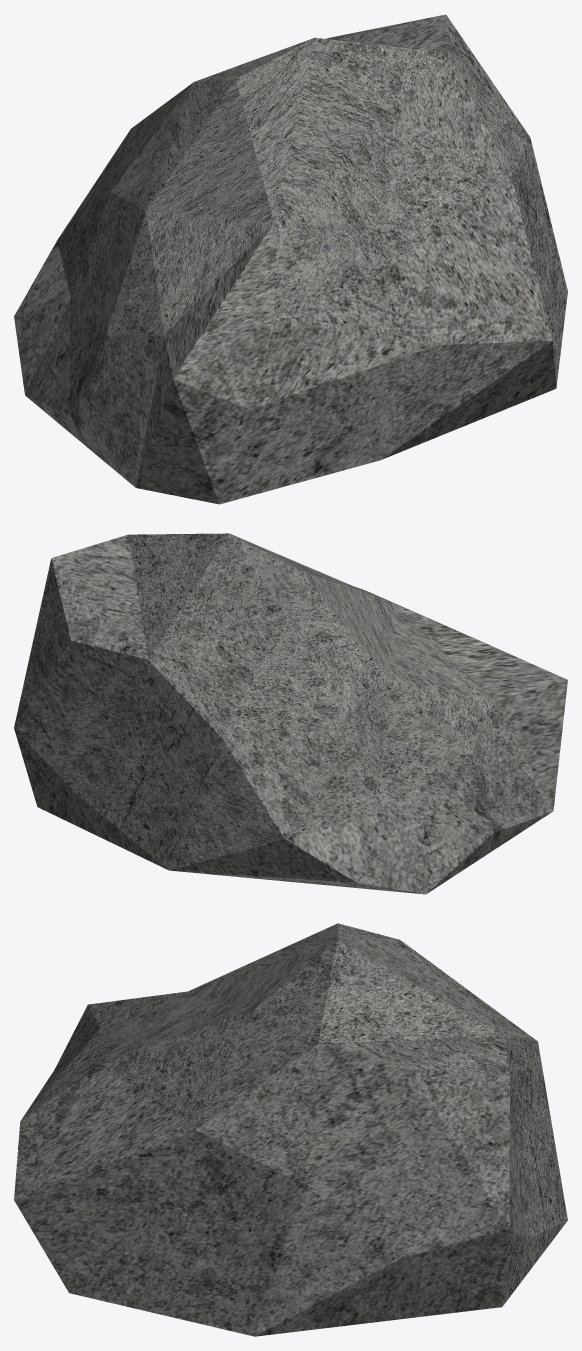
The model's file is roccia_4.fbx.
The picture shows the model from 3 angles, top to bottom: view 1: azimuth 30°, elevation 25°; view 2: azimuth 150°, elevation 25°; view 3: azimuth 270°, elevation 25°; orthographic projection. The views are drawn at different scales.
Parts seen in each view (by area): view 1: roccia_4; view 2: roccia_4; view 3: roccia_4.
Boxes of the visible parts, x1=… form: roccia_4: x1=14, y1=14, x2=567, y2=504; roccia_4: x1=14, y1=533, x2=567, y2=894; roccia_4: x1=14, y1=923, x2=567, y2=1336.
Size of the model in its own units: 33.78 by 21.29 by 32.06.
